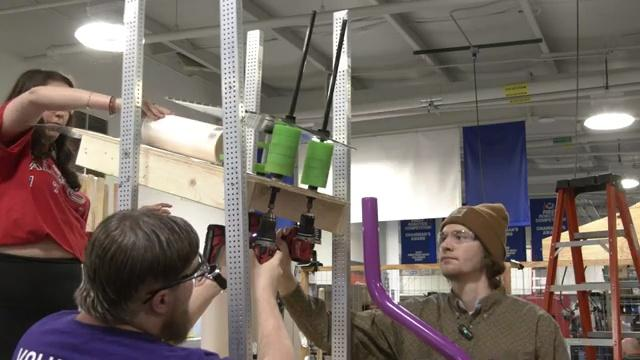CORAL: (142, 114, 223, 163)
